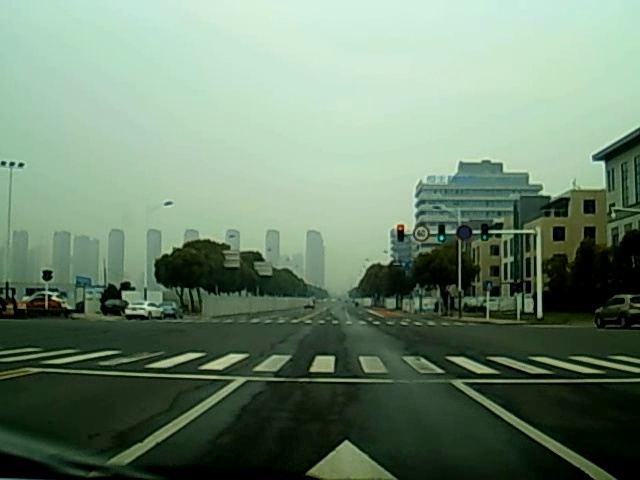Traffic_Light_go: (437, 223, 445, 242), (481, 226, 488, 242)
Traffic_Light_stop: (397, 224, 405, 243)
